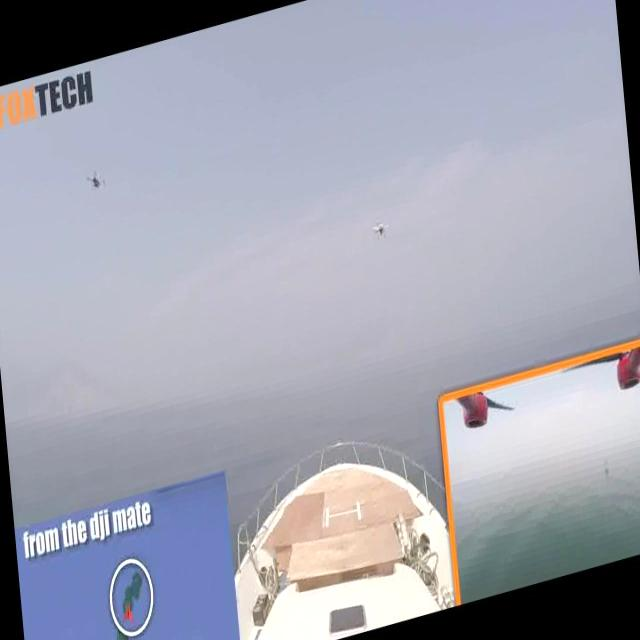drone: (82, 162, 111, 195), (368, 213, 392, 242)
